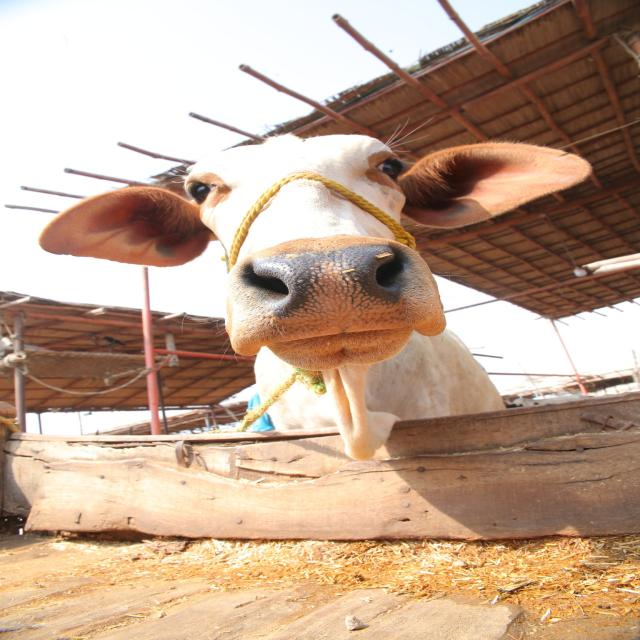muzzles: (220, 241, 442, 348)
